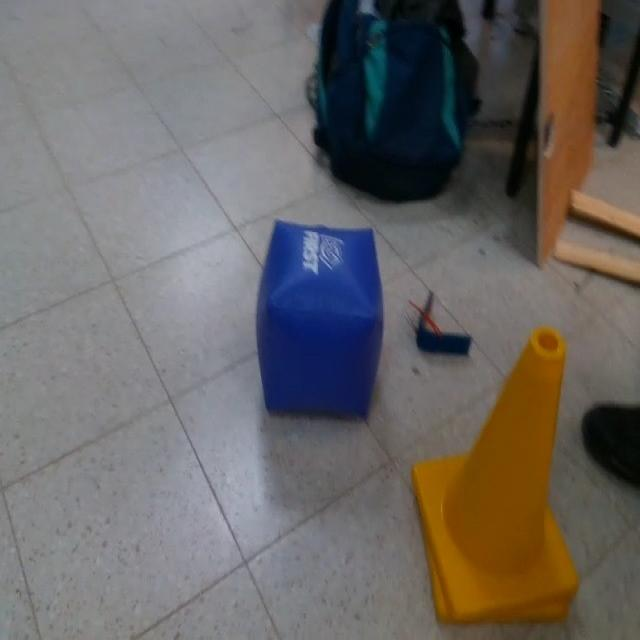cone: (414, 326, 580, 624)
cube: (255, 218, 386, 418)
